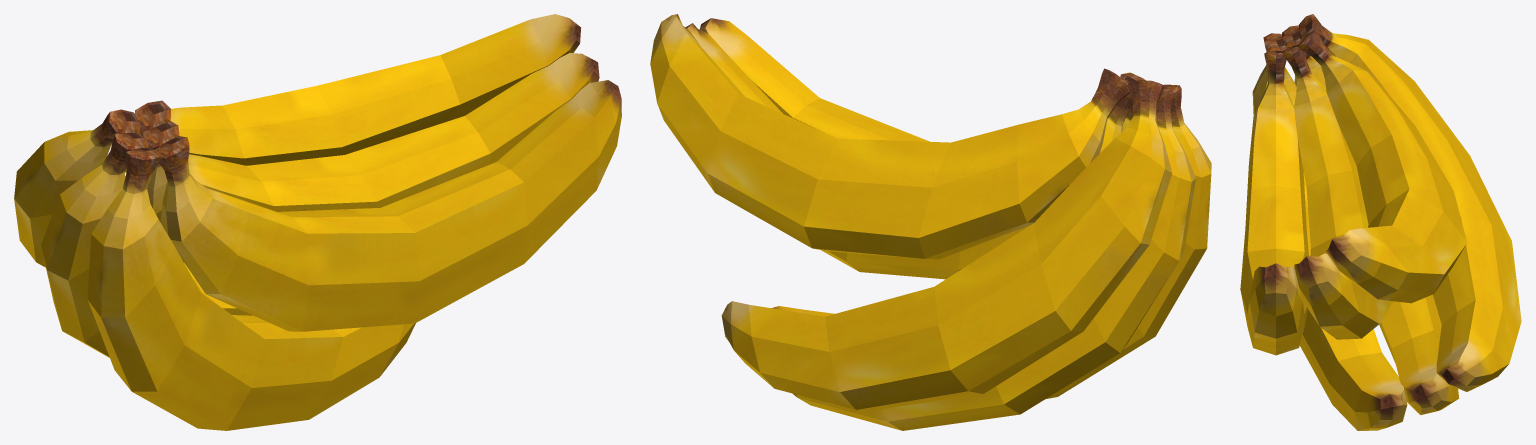
The model's file is banana.fbx.
The picture shows the model from 3 angles, left to right: view 1: azimuth 30°, elevation 25°; view 2: azimuth 150°, elevation 25°; view 3: azimuth 270°, elevation 25°; orthographic projection. The views are drawn at different scales.
Parts seen in each view (by area): view 1: Banana; view 2: Banana; view 3: Banana.
Boxes of the visible parts, <box> form: Banana: <box>14,14,621,430</box>; Banana: <box>650,14,1211,430</box>; Banana: <box>1240,14,1521,430</box>.
Size of the model in its own units: 1.37 by 0.9189 by 0.7548.
Materials: 1 (1 with a texture image).
